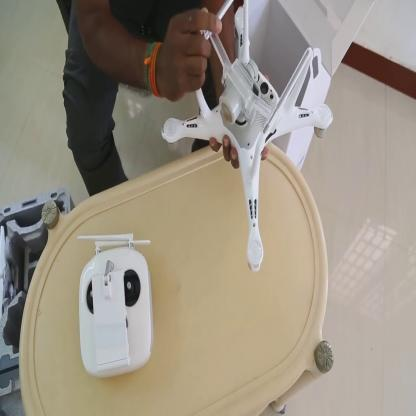drone: (160, 0, 339, 272)
